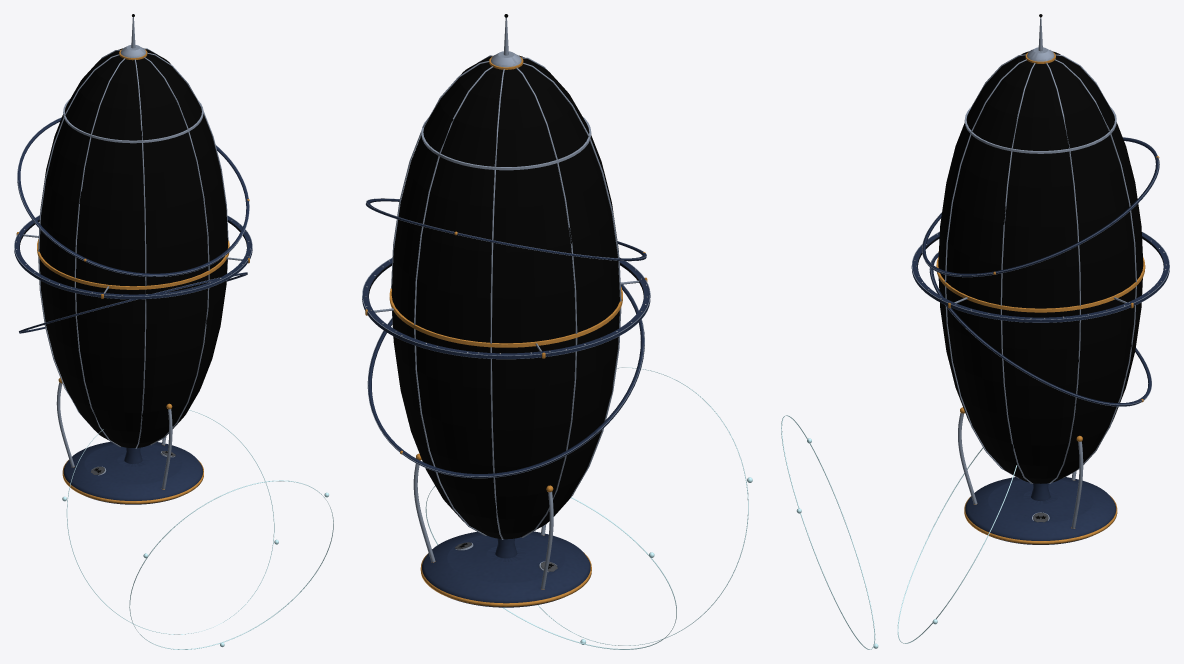
Rendered from SM_Evo_Arcology.fbx.
3 views of the same model, side by side, from view 1: azimuth 30°, elevation 25°; view 2: azimuth 150°, elevation 25°; view 3: azimuth 270°, elevation 25° (orthographic). The views are drawn at different scales.
Parts seen in each view (by area): view 1: Emblem_Fx_Arcology, SMN_Evo_Arcology, SpinOrbit_ArcologyRingA, Fx_ArcologyRingA, Fx_ArcologyRingB, SpinOrbit_ArcologyRingB; view 2: Emblem_Fx_Arcology, SMN_Evo_Arcology, SpinOrbit_ArcologyRingB, SpinOrbit_ArcologyRingA, Fx_ArcologyRingA, Fx_ArcologyRingB; view 3: Emblem_Fx_Arcology, SMN_Evo_Arcology, SpinOrbit_ArcologyRingA, SpinOrbit_ArcologyRingB, Fx_ArcologyRingA, Fx_ArcologyRingB.
Boxes of the visible parts, bbox=[...] form: Emblem_Fx_Arcology: bbox=[16, 14, 250, 472]; SMN_Evo_Arcology: bbox=[14, 17, 252, 504]; SpinOrbit_ArcologyRingA: bbox=[17, 117, 249, 276]; Fx_ArcologyRingA: bbox=[129, 480, 333, 649]; Fx_ArcologyRingB: bbox=[62, 410, 278, 634]; SpinOrbit_ArcologyRingB: bbox=[19, 272, 247, 333]; Emblem_Fx_Arcology: bbox=[365, 14, 647, 568]; SMN_Evo_Arcology: bbox=[362, 17, 650, 607]; SpinOrbit_ArcologyRingB: bbox=[367, 282, 644, 478]; SpinOrbit_ArcologyRingA: bbox=[365, 198, 646, 261]; Fx_ArcologyRingA: bbox=[538, 367, 752, 645]; Fx_ArcologyRingB: bbox=[425, 486, 676, 649]; Emblem_Fx_Arcology: bbox=[914, 14, 1166, 518]; SMN_Evo_Arcology: bbox=[911, 17, 1169, 544]; SpinOrbit_ArcologyRingA: bbox=[922, 137, 1159, 277]; SpinOrbit_ArcologyRingB: bbox=[929, 251, 1151, 406]; Fx_ArcologyRingA: bbox=[781, 415, 878, 649]; Fx_ArcologyRingB: bbox=[897, 447, 1017, 643].
Bounding box in the file's own units: 1.76 × 4.72 × 2.65.
